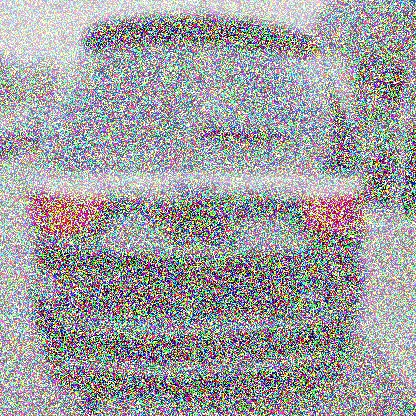Vehicle: (24, 1, 372, 403)
